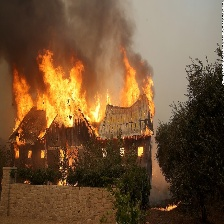fire: (11, 58, 159, 161), (55, 165, 98, 198), (150, 197, 192, 211), (24, 175, 34, 186)
smoke: (1, 1, 167, 71)
